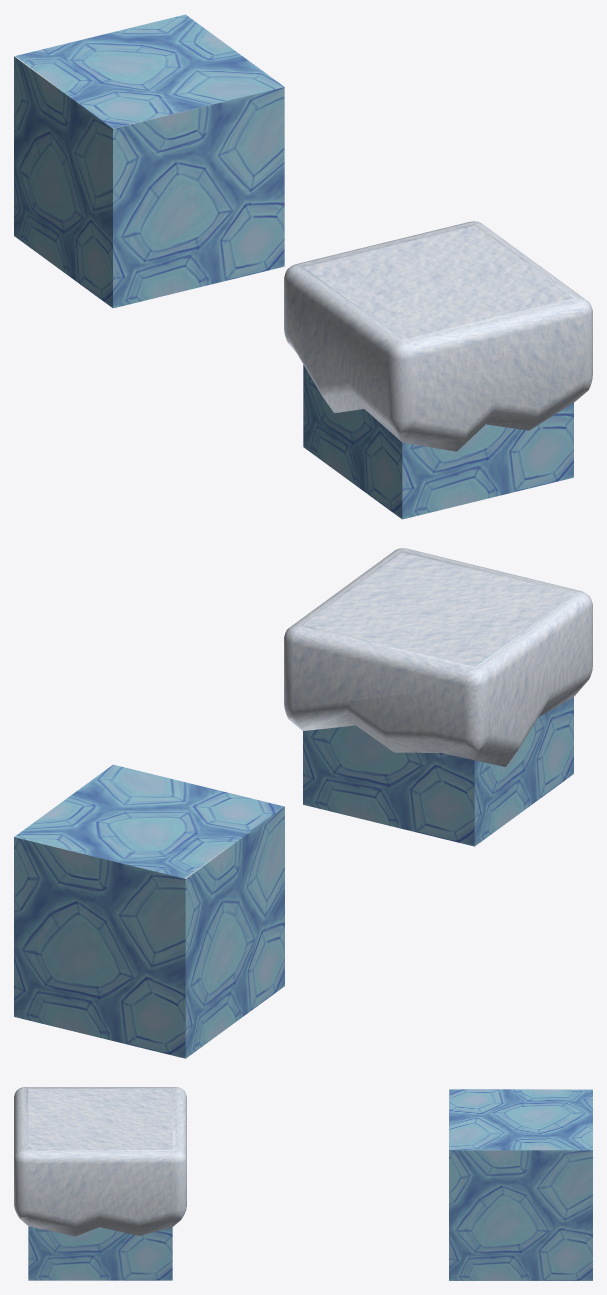
File: 1x1 block .glb
3 views of the same model, one above another, from view 1: azimuth 30°, elevation 25°; view 2: azimuth 150°, elevation 25°; view 3: azimuth 270°, elevation 25° (orthographic). The views are drawn at different scales.
Parts seen in each view (by area): view 1: Einzelnes Tile mit Schnee, Einzeleil kein Schnee; view 2: Einzelnes Tile mit Schnee, Einzeleil kein Schnee; view 3: Einzelnes Tile mit Schnee, Einzeleil kein Schnee.
Boxes of the visible parts, x1,y1,x2,y2 form: Einzelnes Tile mit Schnee: (284,221,592,519); Einzeleil kein Schnee: (14,14,284,308); Einzelnes Tile mit Schnee: (284,548,592,846); Einzeleil kein Schnee: (14,764,284,1058); Einzelnes Tile mit Schnee: (14,1087,186,1280); Einzeleil kein Schnee: (449,1089,592,1280).
Bounding box in the file's own units: 1.17 × 1 × 4.02.
1 material, 1 textured.
